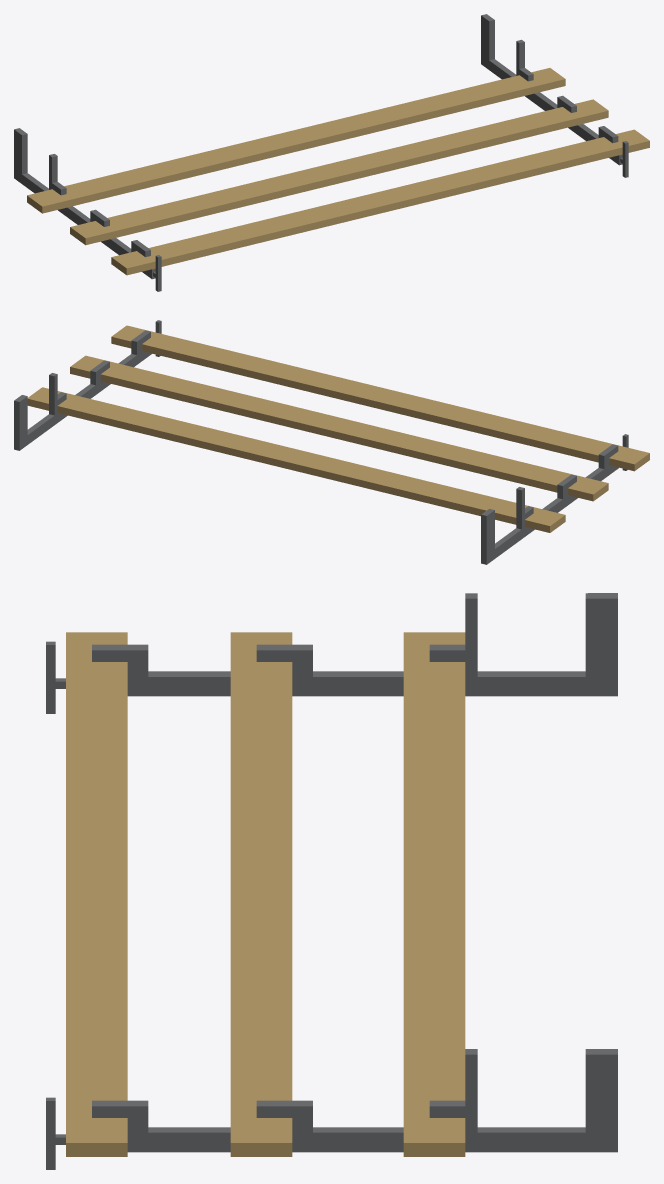
File: Fence N270416.obj
3 renders of one model, top to bottom at view 1: azimuth 30°, elevation 25°; view 2: azimuth 150°, elevation 25°; view 3: azimuth 270°, elevation 25°, orthographic. The views are drawn at different scales.
Size of the model in its own units: 2800 by 298 by 1325.
